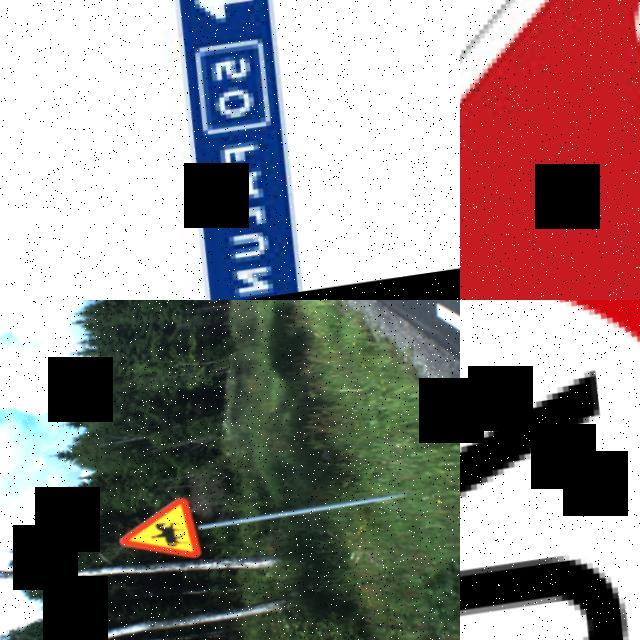154: (114, 488, 212, 572)
67: (118, 0, 321, 300)
Stop: (460, 0, 640, 300)
speed limit-70: (460, 300, 640, 640)
